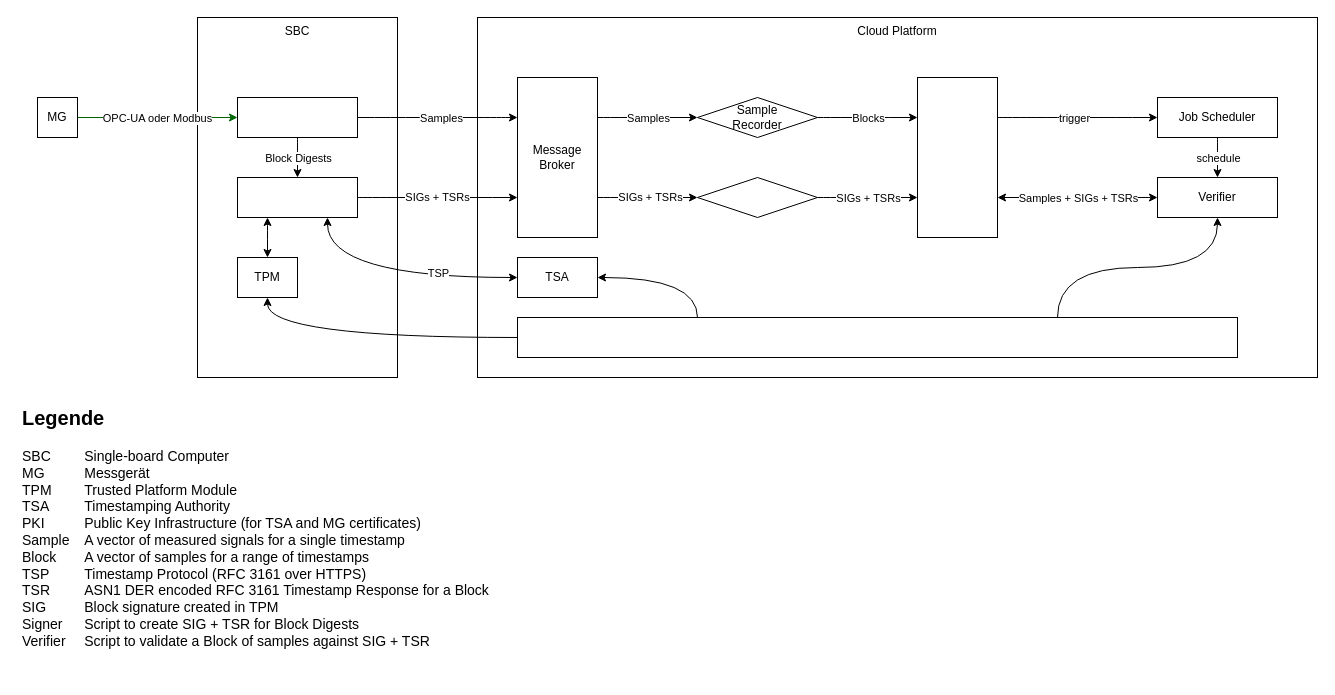
Image size: 1335x695. Some labels were removed from this diagram. Here are the shapes that lost their labels. From the top down, the centre of each, then its label:
At (x=297, y=117): "VILLASnode".
At (x=957, y=157): "Datastore".
At (x=297, y=197): "Signer".
At (x=757, y=197): "Signature Recorder".
At (x=877, y=337): "PKI".
